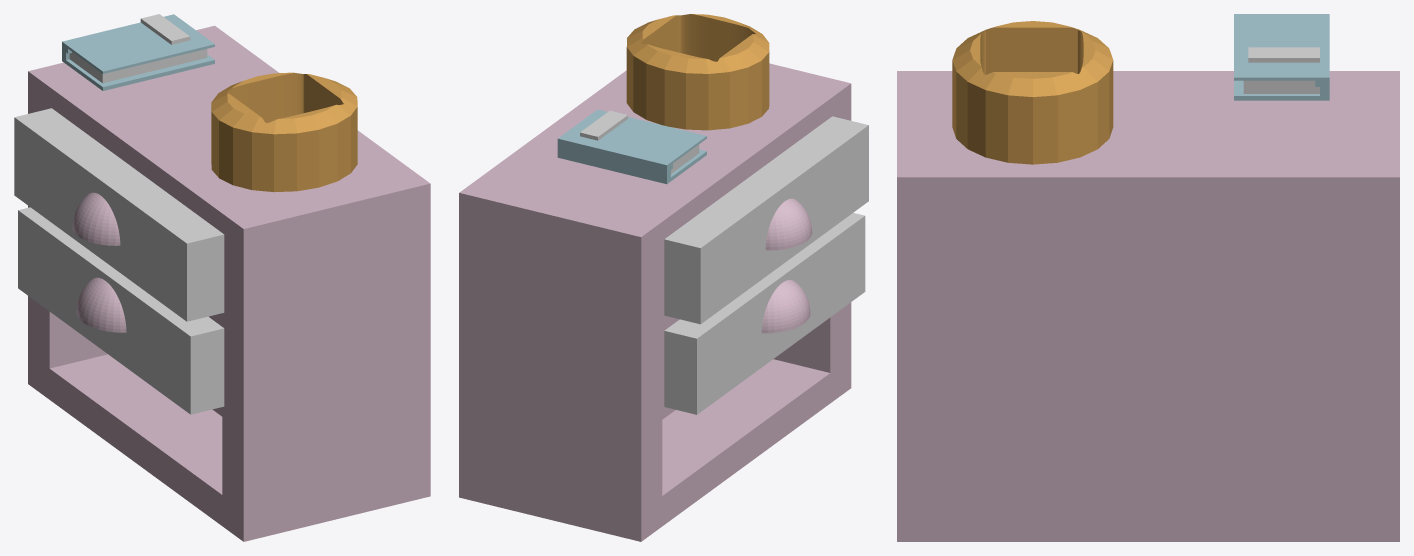
The model's file is Fabulous Stantia.glb.
3 views of the same model, side by side, from view 1: azimuth 30°, elevation 25°; view 2: azimuth 150°, elevation 25°; view 3: azimuth 270°, elevation 25° (orthographic). The views are drawn at different scales.
Parts seen in each view (by area): view 1: Mesh_Mesh_head_geo.001_lambert2SG.001; view 2: Mesh_Mesh_head_geo.001_lambert2SG.001; view 3: Mesh_Mesh_head_geo.001_lambert2SG.001.
Part boxes in pixels (box(x1,y1,x2,y2)): Mesh_Mesh_head_geo.001_lambert2SG.001: box(14, 14, 430, 541); Mesh_Mesh_head_geo.001_lambert2SG.001: box(459, 14, 868, 541); Mesh_Mesh_head_geo.001_lambert2SG.001: box(897, 14, 1399, 541).
Size of the model in its own units: 66 by 97 by 100.
